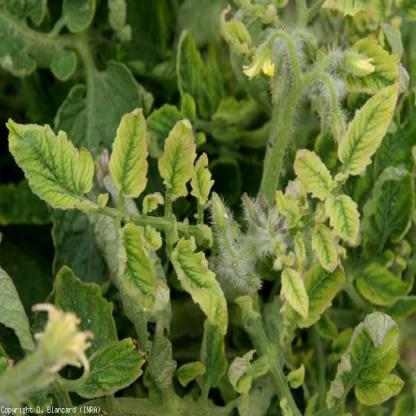Tomato leaf yellow virus: (6, 113, 100, 219), (338, 83, 402, 196), (169, 235, 232, 346), (115, 217, 165, 330), (114, 102, 148, 202), (329, 190, 368, 275), (291, 136, 335, 210), (161, 104, 191, 192), (276, 270, 315, 330)
